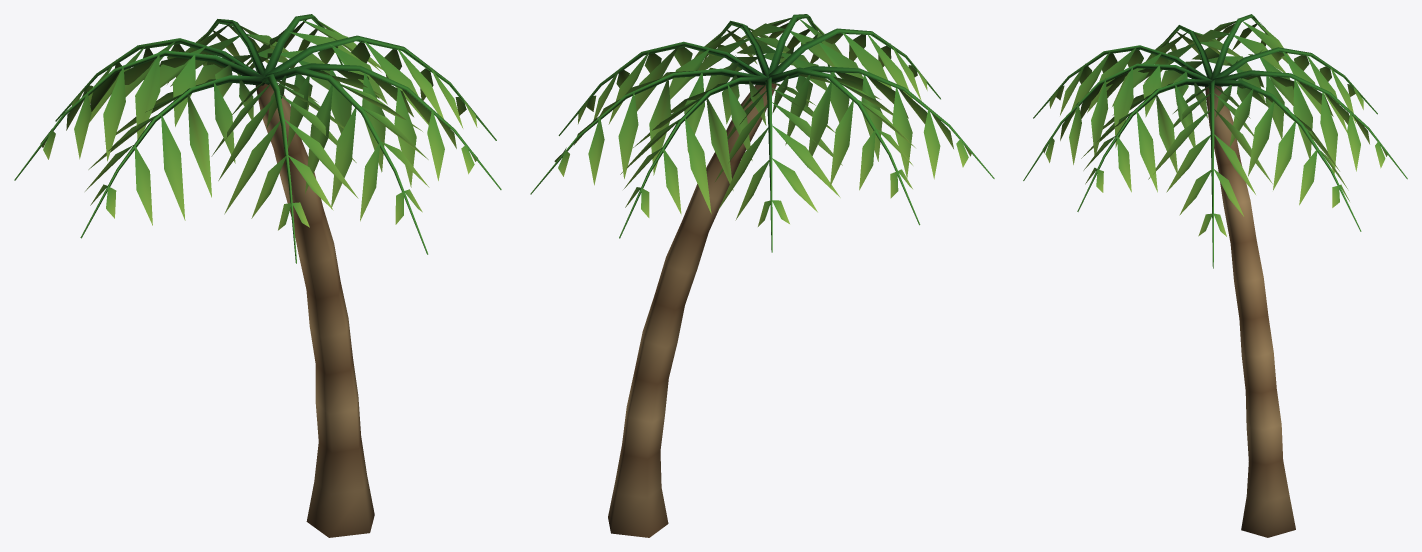
Rendered from tree-palm-far-v2.glb.
3 renders of one model, left to right at view 1: azimuth 30°, elevation 25°; view 2: azimuth 150°, elevation 25°; view 3: azimuth 270°, elevation 25°, orthographic. The views are drawn at different scales.
Parts seen in each view (by area): view 1: 1_leaves, 0_trunk; view 2: 1_leaves, 0_trunk; view 3: 1_leaves, 0_trunk.
Boxes of the visible parts, left/top/right/bottom form: 1_leaves: left=14, top=14, right=501, bottom=263; 0_trunk: left=255, top=83, right=374, bottom=537; 1_leaves: left=530, top=14, right=994, bottom=252; 0_trunk: left=608, top=83, right=776, bottom=537; 1_leaves: left=1023, top=14, right=1407, bottom=268; 0_trunk: left=1205, top=85, right=1295, bottom=537.
Bounding box in the file's own units: 5.26 × 5.98 × 4.84.
